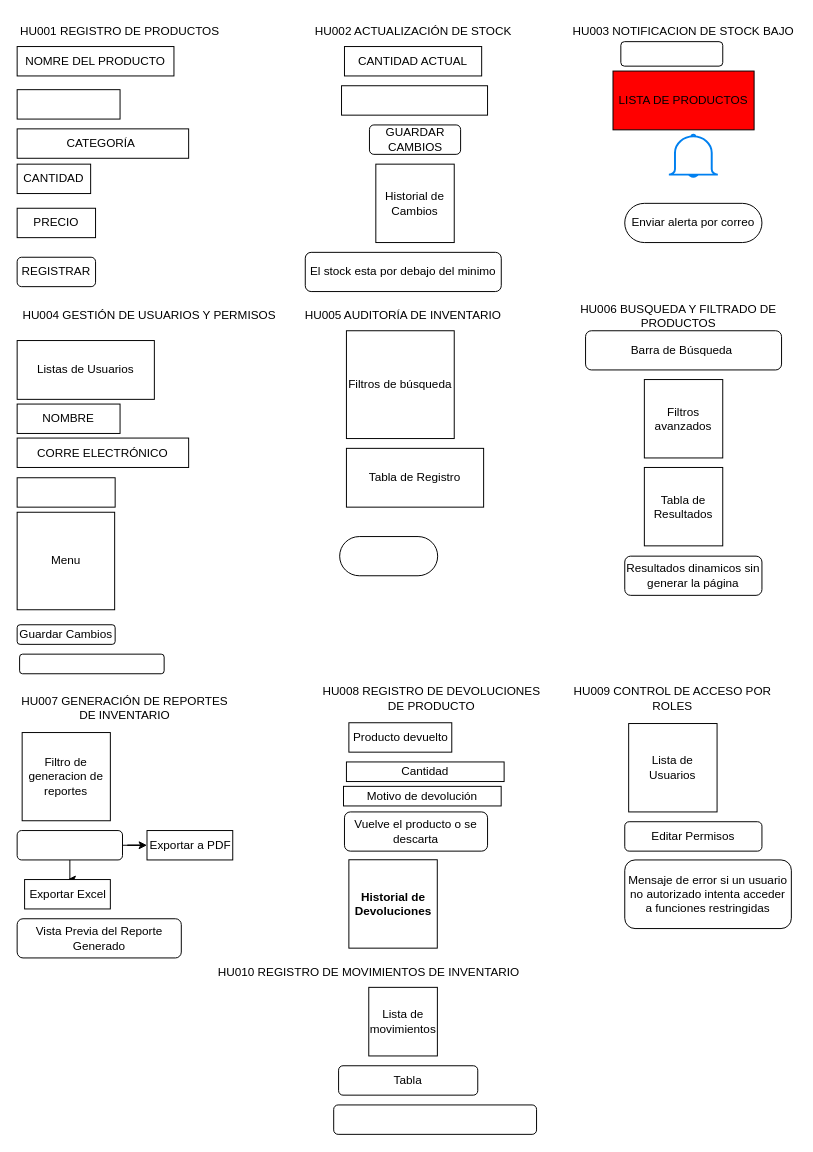
Image size: 813x1152. Some labels were removed from this diagram. The shapes that lost their labels are listed below. From the top down, each one's centre as x and y in pixels, then its label:
the point at 671,53: Stock Bajo
the point at 68,104: CODIGO ÚNICO
the point at 414,100: NUEVA CANTIDAD
the point at 692,155: Contador de Notificaciones
the point at 65,492: CONTRASEÑA
the point at 388,556: Exportar a Excel
the point at 91,663: Activar/Desactivar Cuentas
the point at 69,845: Generar Reporte
the point at 435,1119: Mensajes de advertencia si el usuario intenta modificar el historial
